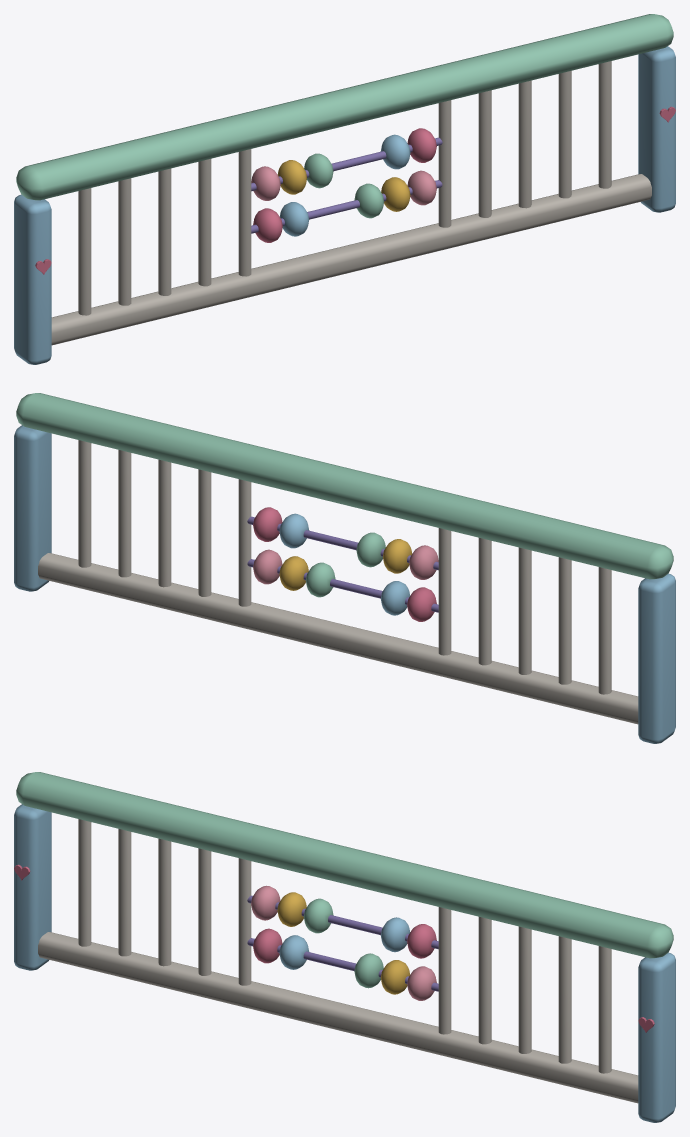
The model's file is crib-rail-fence.glb.
The picture shows the model from 3 angles, top to bottom: view 1: azimuth 30°, elevation 25°; view 2: azimuth 150°, elevation 25°; view 3: azimuth 330°, elevation 25°; orthographic projection.
Parts seen in each view (by area): view 1: crib-rail-fence; view 2: crib-rail-fence; view 3: crib-rail-fence.
Boxes of the visible parts, x1,y1,x2,y2 form: crib-rail-fence: [14, 14, 675, 364]; crib-rail-fence: [14, 393, 675, 743]; crib-rail-fence: [14, 772, 675, 1122].
Size of the model in its own units: 3.2 by 0.9 by 0.182.
